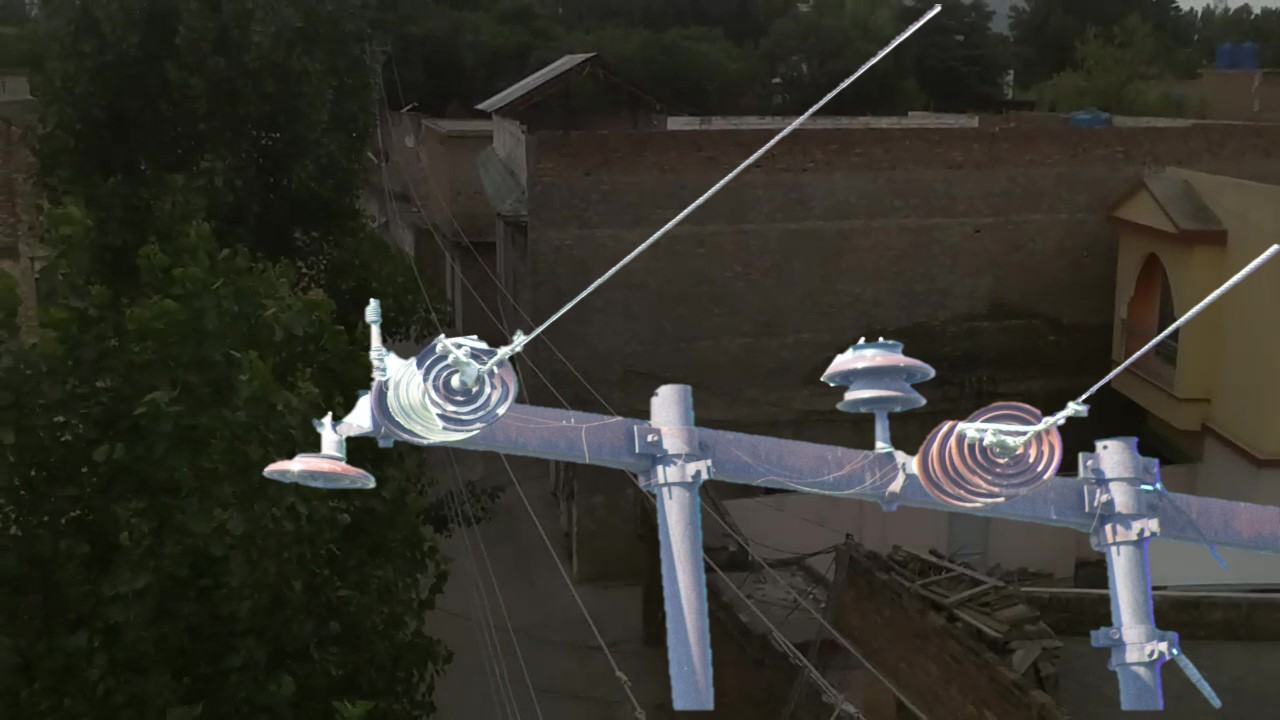defect_disc: (415, 334, 523, 434)
insulator_disc: (948, 395, 1067, 503), (255, 435, 387, 500)
